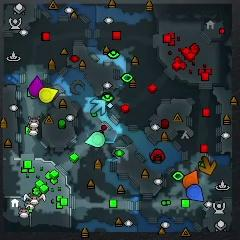p1: (186, 184, 204, 202)
p2: (85, 131, 105, 147)
p3: (29, 76, 44, 97)
p4: (39, 88, 58, 103)
p5: (182, 170, 199, 188)
x3: (91, 99, 106, 115)
x5: (199, 157, 216, 175)
